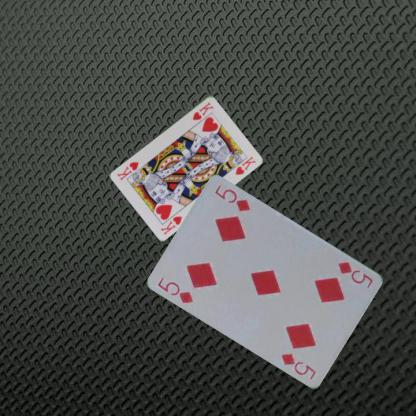5d: (335, 256, 375, 290), (155, 273, 195, 305)
Kh: (158, 214, 183, 236), (190, 100, 214, 122)
